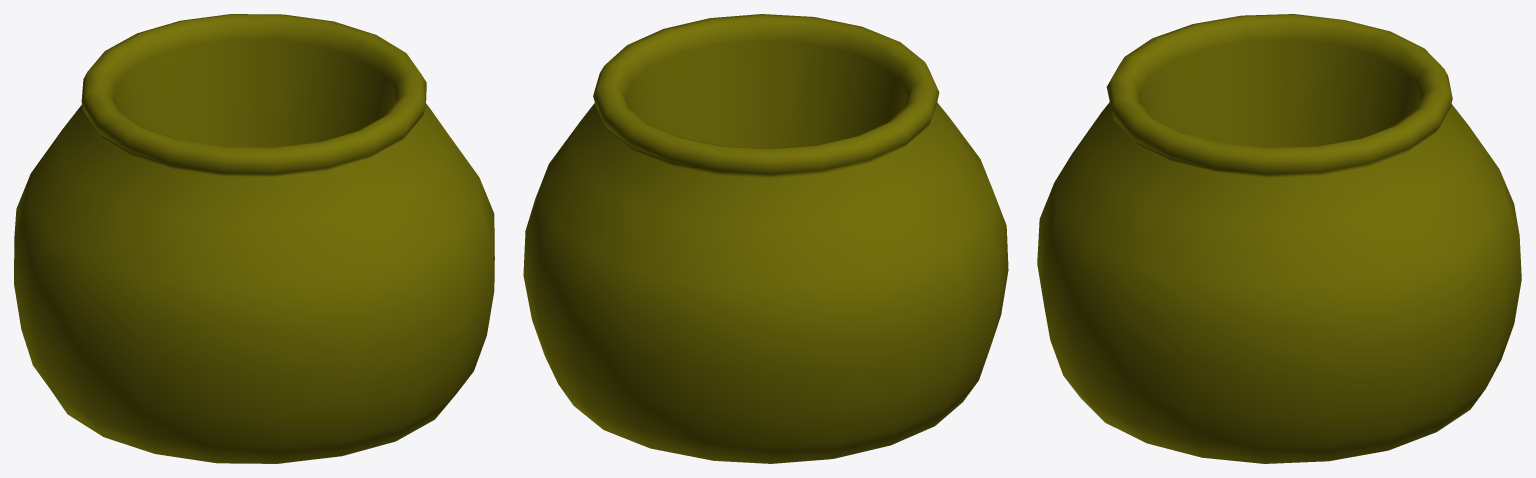
The picture shows the model from 3 angles, left to right: view 1: azimuth 30°, elevation 25°; view 2: azimuth 150°, elevation 25°; view 3: azimuth 270°, elevation 25°; orthographic projection.
Visible parts, largest first — view 1: SM_PileOfBooks_01_LOD0; view 2: SM_PileOfBooks_01_LOD0; view 3: SM_PileOfBooks_01_LOD0.
Boxes of the visible parts, x1,y1,x2,y2 form: SM_PileOfBooks_01_LOD0: (14, 14, 494, 463); SM_PileOfBooks_01_LOD0: (523, 14, 1008, 463); SM_PileOfBooks_01_LOD0: (1037, 14, 1521, 463).
Size of the model in its own units: 0.3336 by 0.2312 by 0.3337.
